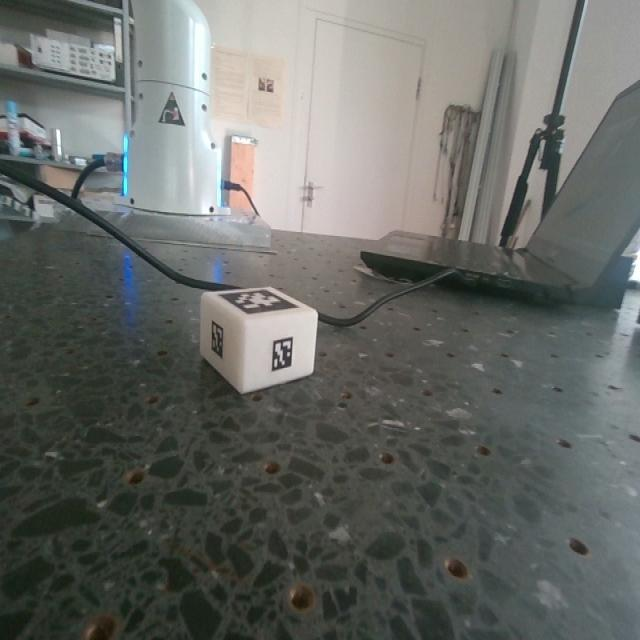Cube: (199, 281, 319, 391)
